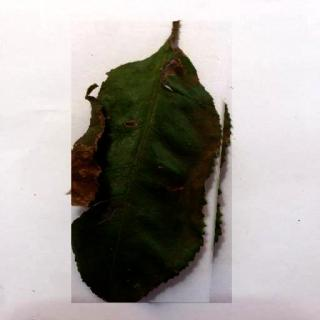Algal Leaf: (73, 23, 234, 305)
